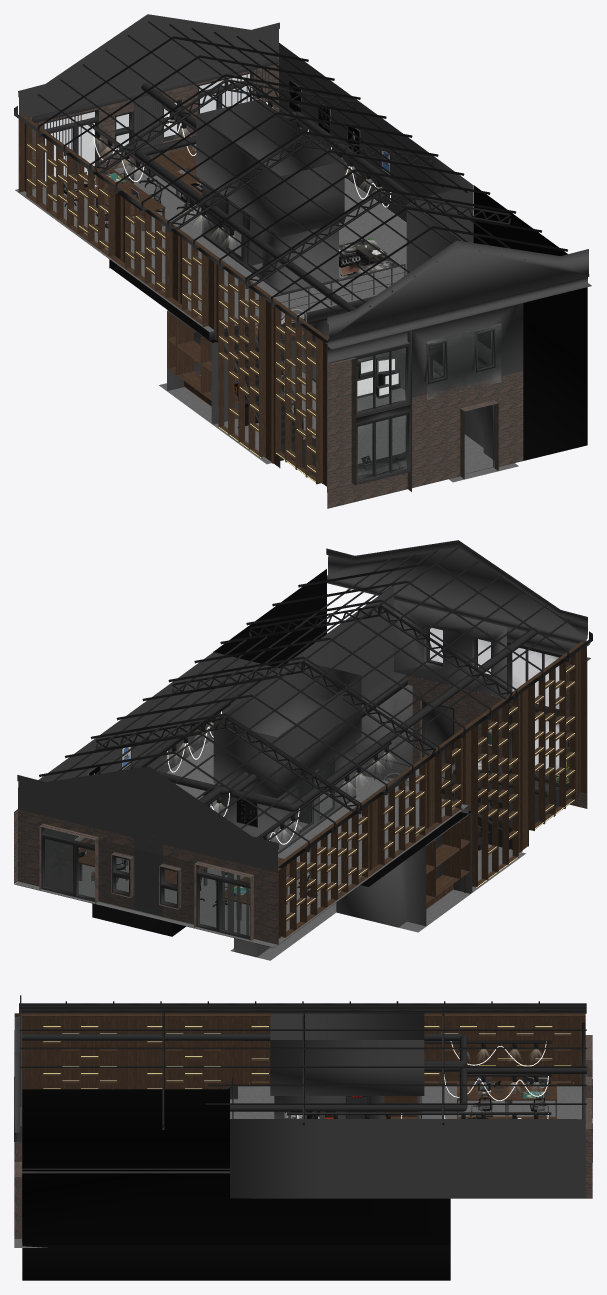
Rendered from office-g04-47af4c75.glb.
The picture shows the model from 3 angles, top to bottom: view 1: azimuth 30°, elevation 25°; view 2: azimuth 150°, elevation 25°; view 3: azimuth 270°, elevation 25°; orthographic projection. The views are drawn at different scales.
Parts seen in each view (by area): view 1: SM_00_010, BSM_MTL_Wood, BSM_MTL_Bricks, BSM_MTL_Porcelanato, SM_Atlas_Basic_001, BSM_MTL_Glass, SM_04_8, SM_06_01, BSM_MTL_MetalD, SM_lightMesh, SM_Glass_Dust, SM_00a_02; view 2: SM_00_010, BSM_MTL_Wood, BSM_MTL_Bricks, BSM_MTL_Glass, BSM_MTL_Porcelanato, SM_Atlas_Basic_001, SM_04_8, SM_lightMesh, BSM_MTL_MetalD; view 3: SM_00_010, SM_Atlas_Basic_001_001, BSM_MTL_Wood, SM_Atlas_Basic_001, BSM_MTL_Porcelanato, BSM_MTL_Bricks, SM_lightMesh, MTL_Desk, SM_05_03_001, SM_05_03, SM_LightWavesA_001.
Part boxes in pixels (x1=…): SM_00_010: x1=14, y1=14, x2=591, y2=485; BSM_MTL_Wood: x1=18, y1=115, x2=329, y2=492; BSM_MTL_Bricks: x1=28, y1=57, x2=523, y2=508; BSM_MTL_Porcelanato: x1=15, y1=149, x2=518, y2=482; SM_Atlas_Basic_001: x1=109, y1=185, x2=587, y2=460; BSM_MTL_Glass: x1=45, y1=74, x2=500, y2=479; SM_04_8: x1=37, y1=66, x2=269, y2=184; SM_06_01: x1=339, y1=238, x2=397, y2=279; BSM_MTL_MetalD: x1=224, y1=324, x2=399, y2=476; SM_lightMesh: x1=27, y1=144, x2=315, y2=481; SM_Glass_Dust: x1=357, y1=323, x2=501, y2=479; SM_00a_02: x1=357, y1=355, x2=400, y2=398; SM_00_010: x1=14, y1=540, x2=592, y2=956; BSM_MTL_Wood: x1=78, y1=641, x2=586, y2=944; BSM_MTL_Bricks: x1=14, y1=657, x2=590, y2=944; BSM_MTL_Glass: x1=44, y1=628, x2=558, y2=935; BSM_MTL_Porcelanato: x1=15, y1=739, x2=525, y2=960; SM_Atlas_Basic_001: x1=92, y1=569, x2=471, y2=936; SM_04_8: x1=44, y1=827, x2=249, y2=935; SM_lightMesh: x1=286, y1=665, x2=574, y2=919; BSM_MTL_MetalD: x1=441, y1=773, x2=569, y2=850; SM_00_010: x1=14, y1=995, x2=586, y2=1241; SM_Atlas_Basic_001_001: x1=22, y1=1089, x2=450, y2=1244; BSM_MTL_Wood: x1=14, y1=1013, x2=585, y2=1118; SM_Atlas_Basic_001: x1=22, y1=1245, x2=450, y2=1280; BSM_MTL_Porcelanato: x1=14, y1=1083, x2=581, y2=1247; BSM_MTL_Bricks: x1=14, y1=1030, x2=592, y2=1238; SM_lightMesh: x1=43, y1=1026, x2=570, y2=1088; MTL_Desk: x1=468, y1=1076, x2=550, y2=1118; SM_05_03_001: x1=469, y1=1077, x2=549, y2=1116; SM_05_03: x1=471, y1=1076, x2=548, y2=1116; SM_LightWavesA_001: x1=297, y1=1041, x2=548, y2=1118.
Size of the model in its own units: 11.72 by 9.83 by 23.81.
40 materials, 32 textured.
